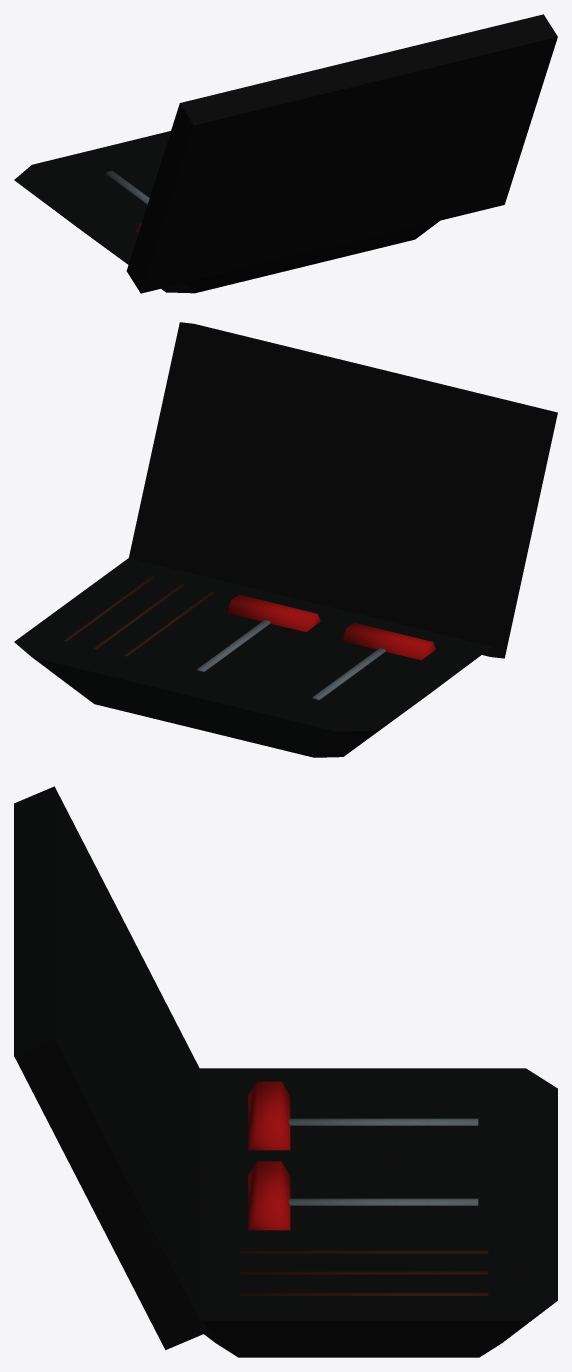
Rendered from TirePatchKit.gltf.
3 views of the same model, one above another, from view 1: azimuth 30°, elevation 25°; view 2: azimuth 150°, elevation 25°; view 3: azimuth 270°, elevation 25° (orthographic). The views are drawn at different scales.
Visible parts, largest first — view 1: TirePatchKit__Body; view 2: TirePatchKit__Body; view 3: TirePatchKit__Body.
Part boxes in pixels (x1,y1,x2,y2): TirePatchKit__Body: (14,14,557,293); TirePatchKit__Body: (14,322,557,757); TirePatchKit__Body: (14,786,557,1357).
Bounding box in the file's own units: 0.168 × 0.1099 × 0.153.
1 material, 1 textured.
